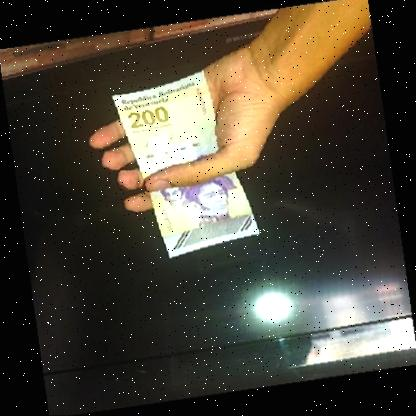vef_front: (110, 67, 260, 261)
